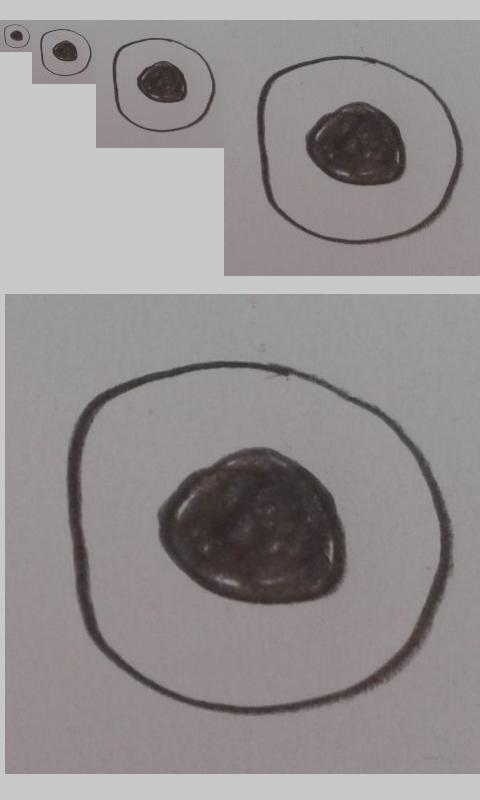radio_button: (66, 358, 452, 717), (254, 53, 464, 247), (112, 37, 216, 133), (39, 28, 92, 77), (3, 23, 31, 49)
